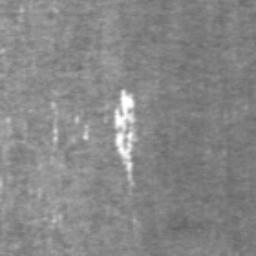White rust: (114, 88, 139, 187), (52, 117, 59, 151), (82, 124, 90, 140), (74, 113, 79, 124)
